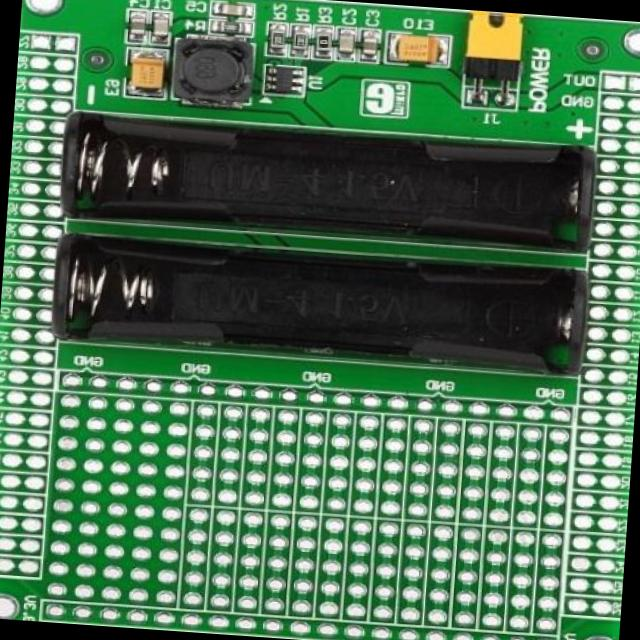IC: (264, 65, 298, 95)
capacitor: (388, 34, 446, 64), (128, 51, 164, 96), (211, 1, 252, 18), (359, 32, 381, 59), (334, 29, 354, 56), (150, 13, 169, 40), (127, 14, 145, 38)
connector: (459, 12, 523, 108)
resistor: (314, 28, 332, 58), (291, 28, 311, 55), (266, 28, 285, 56), (214, 22, 248, 36)
